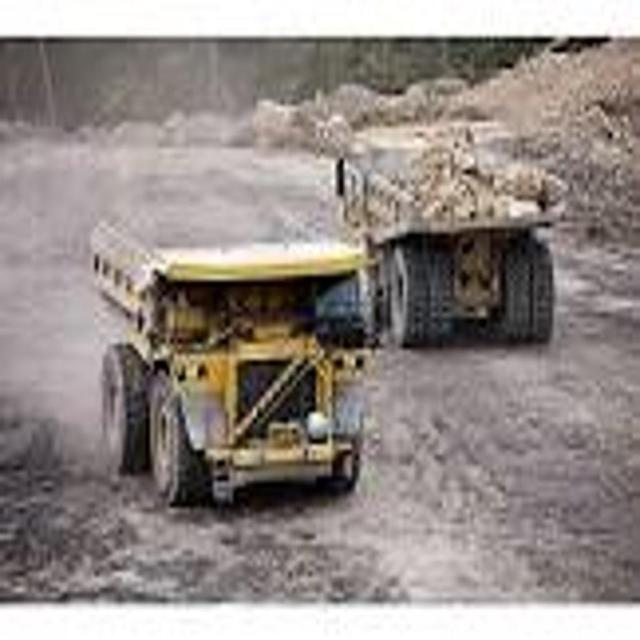dump_truck: (88, 154, 374, 526), (352, 123, 560, 355)
